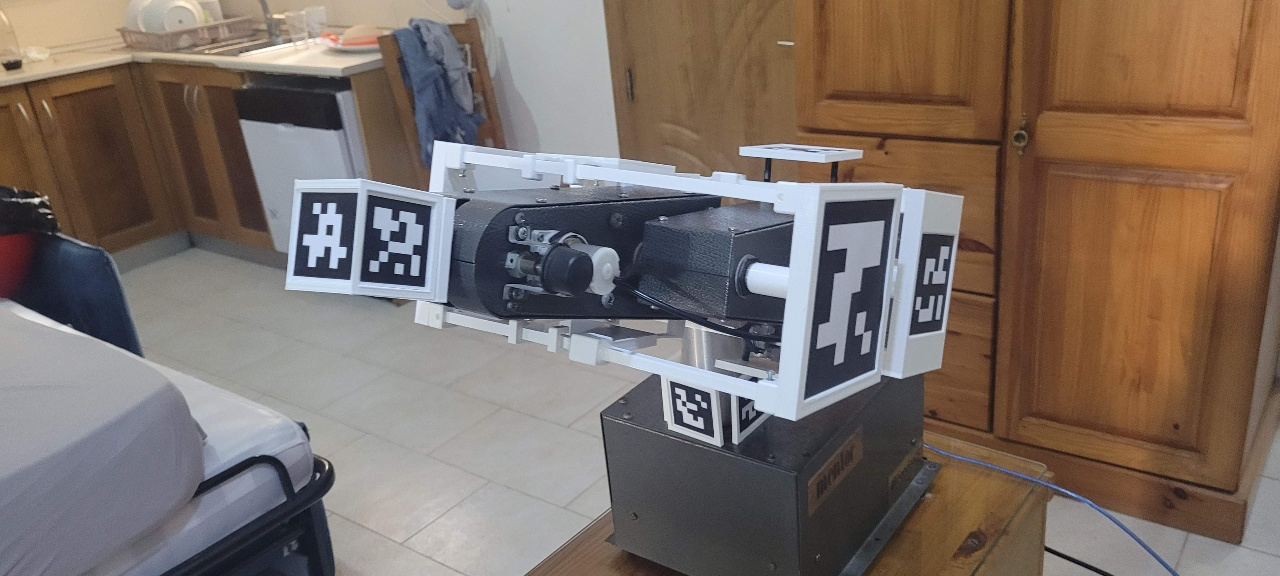Robot: (283, 136, 966, 449)
